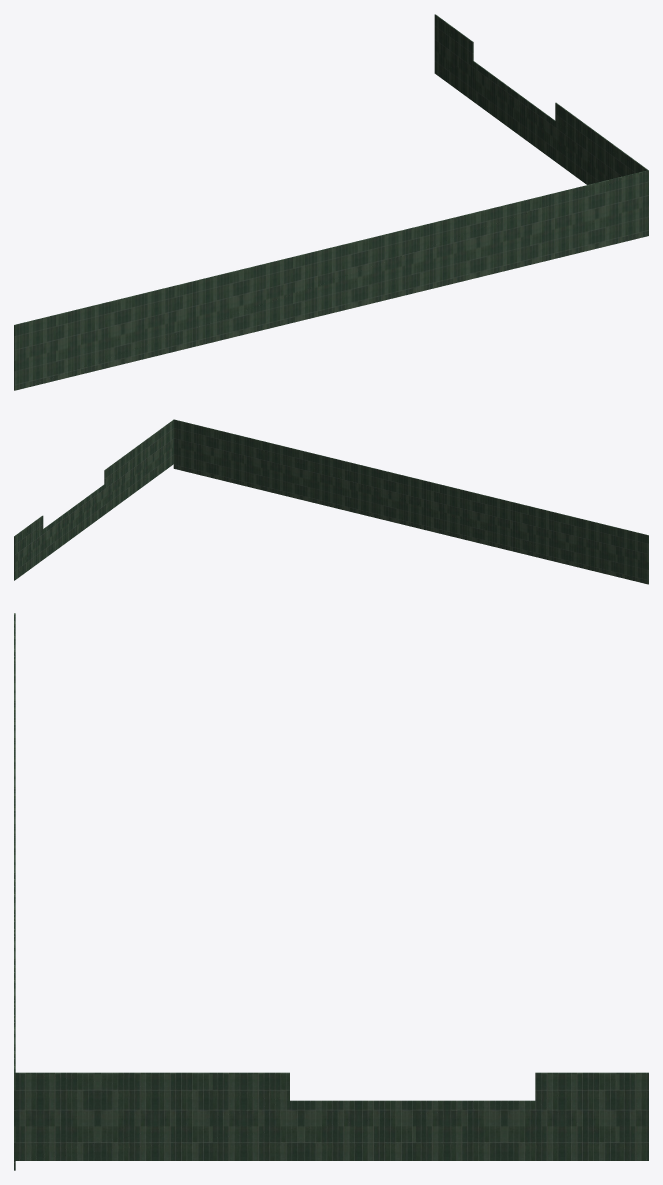
Rendered from 1860_kitchen_BP_PassionVerde.gltf.
3 views of the same model, one above another, from view 1: azimuth 30°, elevation 25°; view 2: azimuth 150°, elevation 25°; view 3: azimuth 270°, elevation 25° (orthographic). The views are drawn at different scales.
Parts seen in each view (by area): view 1: BP_Passion Verde.; view 2: BP_Passion Verde.; view 3: BP_Passion Verde..
Part boxes in pixels (x1,y1,x2,y2): BP_Passion Verde.: [14, 14, 648, 390]; BP_Passion Verde.: [14, 419, 648, 584]; BP_Passion Verde.: [14, 613, 648, 1170].
Bounding box in the file's own units: 7.1 × 0.7 × 4.14.
1 material, 1 textured.
